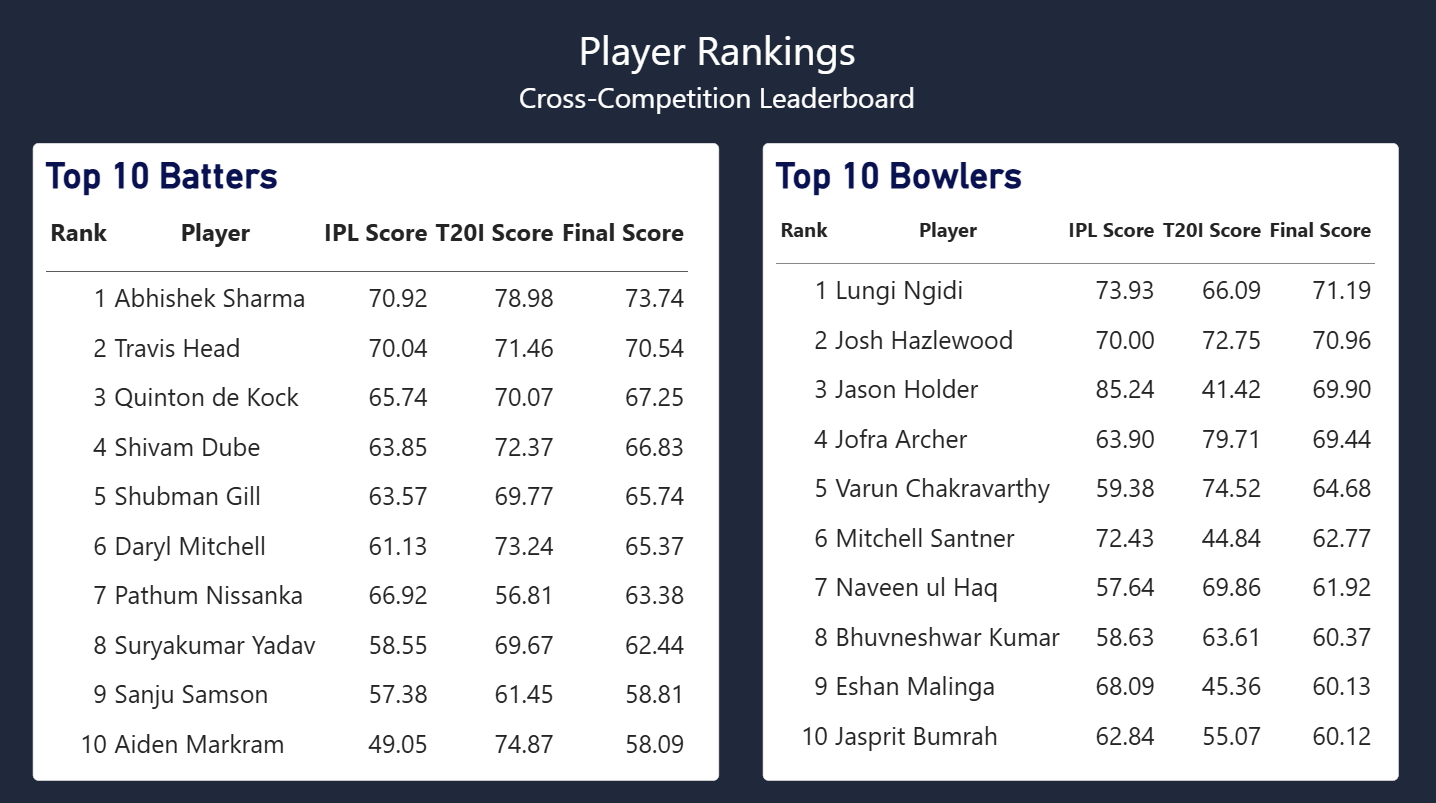

What the dashboard file says about the page in this screenshot:
{"tool":"powerbi","page":{"name":"02 - Player Rankings ","canvas":[1920,1080],"ordinal":1},"visuals":[{"type":"textbox","box":[0,12.2,1920.4,101.2],"z":0},{"type":"textbox","box":[0,83.7,1920.4,83.7],"z":1000},{"type":"tableEx","title":"Top 10 Batters","fields":{"Values":["T_Final_Shortlist.original_cross_comp_rank","T_Final_Shortlist.player_name","T_Final_Shortlist.ipl_wide_score","T_Final_Shortlist.t20i_score","T_Final_Shortlist.original_cross_competition_score"]},"box":[45,193.3,915,850],"z":2000},{"type":"tableEx","title":"Top 10 Bowlers","fields":{"Values":["T_Final_Shortlist.original_cross_comp_rank","T_Final_Shortlist.player_name","T_Final_Shortlist.ipl_wide_score","T_Final_Shortlist.t20i_score","T_Final_Shortlist.original_cross_competition_score"]},"box":[1018.3,193.3,848.3,850],"z":3000}]}

Visuals, with their boxes in screenshot pixels (x1, y1, x2, y2), scaled from the page's 1920x1080 canvas onto the 1436x803 screenshot:
textbox: {"x1": 0, "y1": 9, "x2": 1435, "y2": 84}
textbox: {"x1": 0, "y1": 62, "x2": 1435, "y2": 124}
"Top 10 Batters" tableEx: {"x1": 34, "y1": 144, "x2": 718, "y2": 776}
"Top 10 Bowlers" tableEx: {"x1": 762, "y1": 144, "x2": 1396, "y2": 776}
